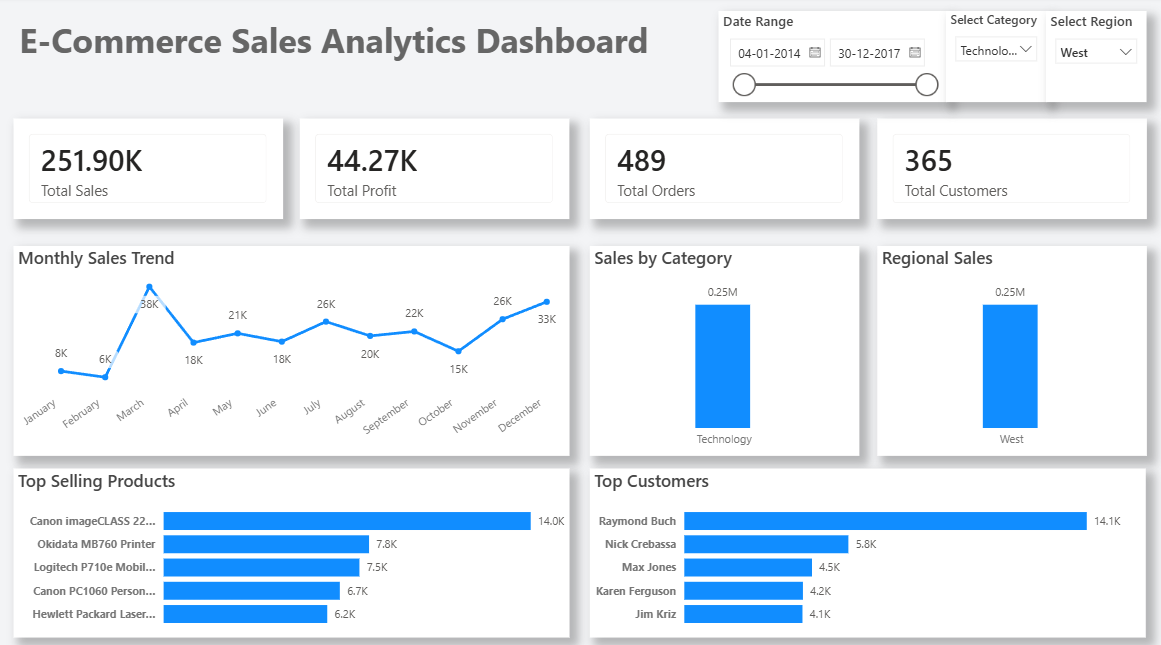

Layout of this report page (visuals, bound fields, positions):
{"tool":"powerbi","page":{"name":"Page 1","canvas":[1280,720],"ordinal":0},"visuals":[{"type":"cardVisual","fields":{"Data":["Orders.Total Sales"]},"box":[18.6,134.3,295.7,110],"z":0},{"type":"cardVisual","fields":{"Data":["Orders.Total Profit"]},"box":[332.9,134.3,295.7,110],"z":1000},{"type":"cardVisual","fields":{"Data":["Orders.Total Orders"]},"box":[651.4,134.3,295.7,110],"z":2000},{"type":"cardVisual","fields":{"Data":["Orders.Total Customers"]},"box":[967.1,134.3,295.7,110],"z":3000},{"type":"lineClusteredColumnComboChart","title":"Monthly Sales Trend","fields":{"Category":["Orders.Order Date.Variation.Date Hierarchy.Month"],"Y2":["Sum(Orders.Sales)"]},"box":[18.6,274.3,610,230],"z":4000},{"type":"clusteredColumnChart","title":"Regional Sales","fields":{"Category":["Orders.Region"],"Y":["Sum(Orders.Sales)"]},"box":[967.1,274.3,295.7,230],"z":5000},{"type":"clusteredColumnChart","title":"Sales by Category","fields":{"Category":["Orders.Category"],"Y":["Sum(Orders.Sales)"]},"box":[651.4,274.3,295.7,230],"z":6000},{"type":"barChart","title":"Top Selling Products","fields":{"Y":["Sum(Orders.Sales)"],"Category":["Orders.Product Name"]},"box":[18.6,518.6,610,185.7],"z":7000},{"type":"barChart","title":"Top Customers","fields":{"Category":["Orders.Customer Name"],"Y":["Sum(Orders.Sales)"]},"box":[651.4,518.6,610,185.7],"z":8000},{"type":"slicer","title":"Date Range","fields":{"Values":["Orders.Order Date"]},"box":[792.9,17.1,250,100],"z":9000},{"type":"slicer","title":"Select Category","fields":{"Values":["Orders.Category"]},"box":[1042.9,17.1,110,100],"z":10000},{"type":"slicer","title":"Select Region","fields":{"Values":["Orders.Region"]},"box":[1152.9,17.1,110,100],"z":11000},{"type":"textbox","box":[20.6,17.8,763,70],"z":12000}]}

Visuals, with their boxes in screenshot pixels (x1, y1, x2, y2), scaled from the page's 1280x720 canvas onto the 1161x645 screenshot:
cardVisual - Orders.Total Sales: rect(17, 120, 285, 219)
cardVisual - Orders.Total Profit: rect(302, 120, 570, 219)
cardVisual - Orders.Total Orders: rect(591, 120, 859, 219)
cardVisual - Orders.Total Customers: rect(877, 120, 1145, 219)
"Monthly Sales Trend" lineClusteredColumnComboChart: rect(17, 246, 570, 452)
"Regional Sales" clusteredColumnChart: rect(877, 246, 1145, 452)
"Sales by Category" clusteredColumnChart: rect(591, 246, 859, 452)
"Top Selling Products" barChart: rect(17, 465, 570, 631)
"Top Customers" barChart: rect(591, 465, 1144, 631)
"Date Range" slicer: rect(719, 15, 946, 105)
"Select Category" slicer: rect(946, 15, 1046, 105)
"Select Region" slicer: rect(1046, 15, 1145, 105)
textbox: rect(19, 16, 711, 79)
